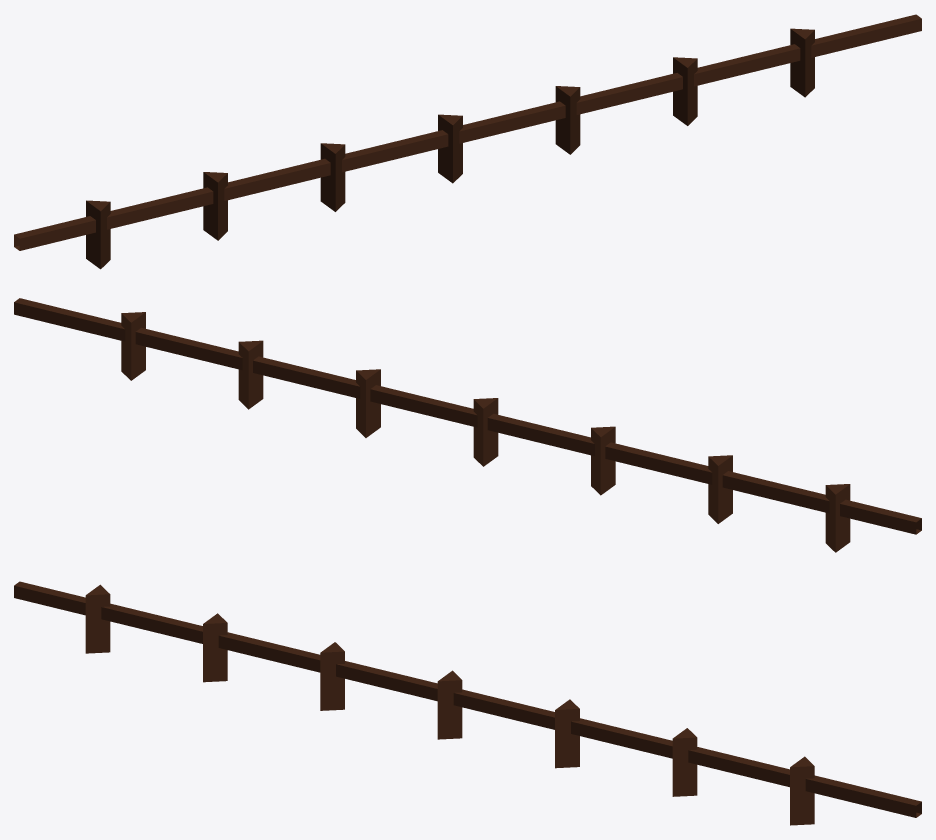
3 views of the same model, one above another, from view 1: azimuth 30°, elevation 25°; view 2: azimuth 150°, elevation 25°; view 3: azimuth 330°, elevation 25° (orthographic).
Visible parts, largest first — view 1: Object001; view 2: Object001; view 3: Object001.
Boxes of the visible parts, bbox=[...] form: Object001: bbox=[14, 14, 921, 269]; Object001: bbox=[14, 298, 921, 552]; Object001: bbox=[14, 581, 921, 825].
Size of the model in its own units: 21.16 by 1.3 by 0.6032.
